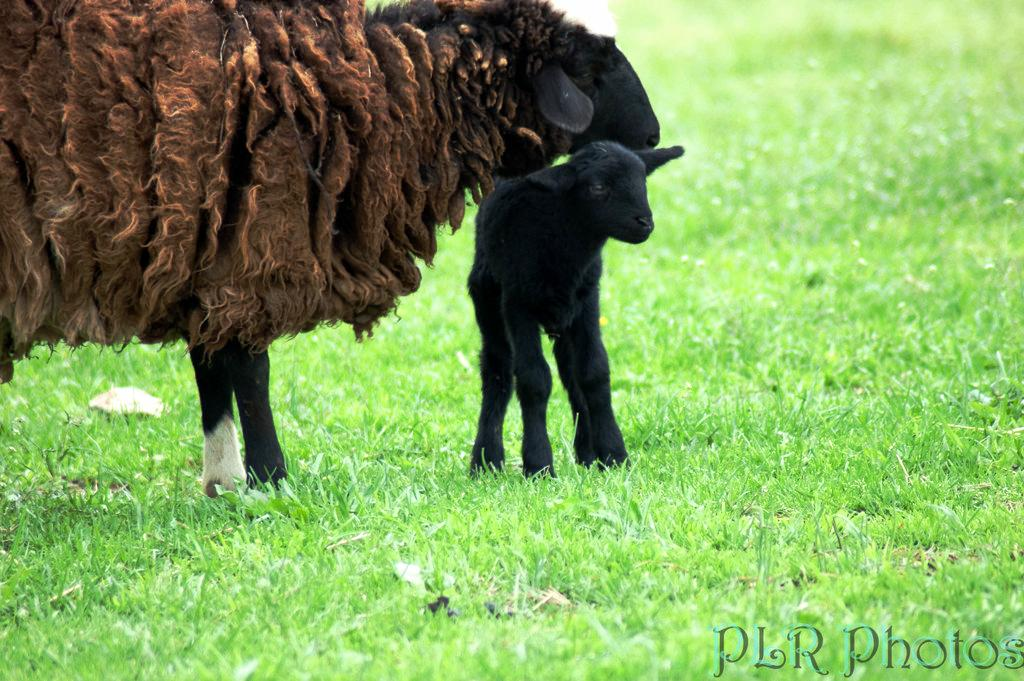Sheep: (0, 0, 673, 500), (463, 133, 686, 490)
